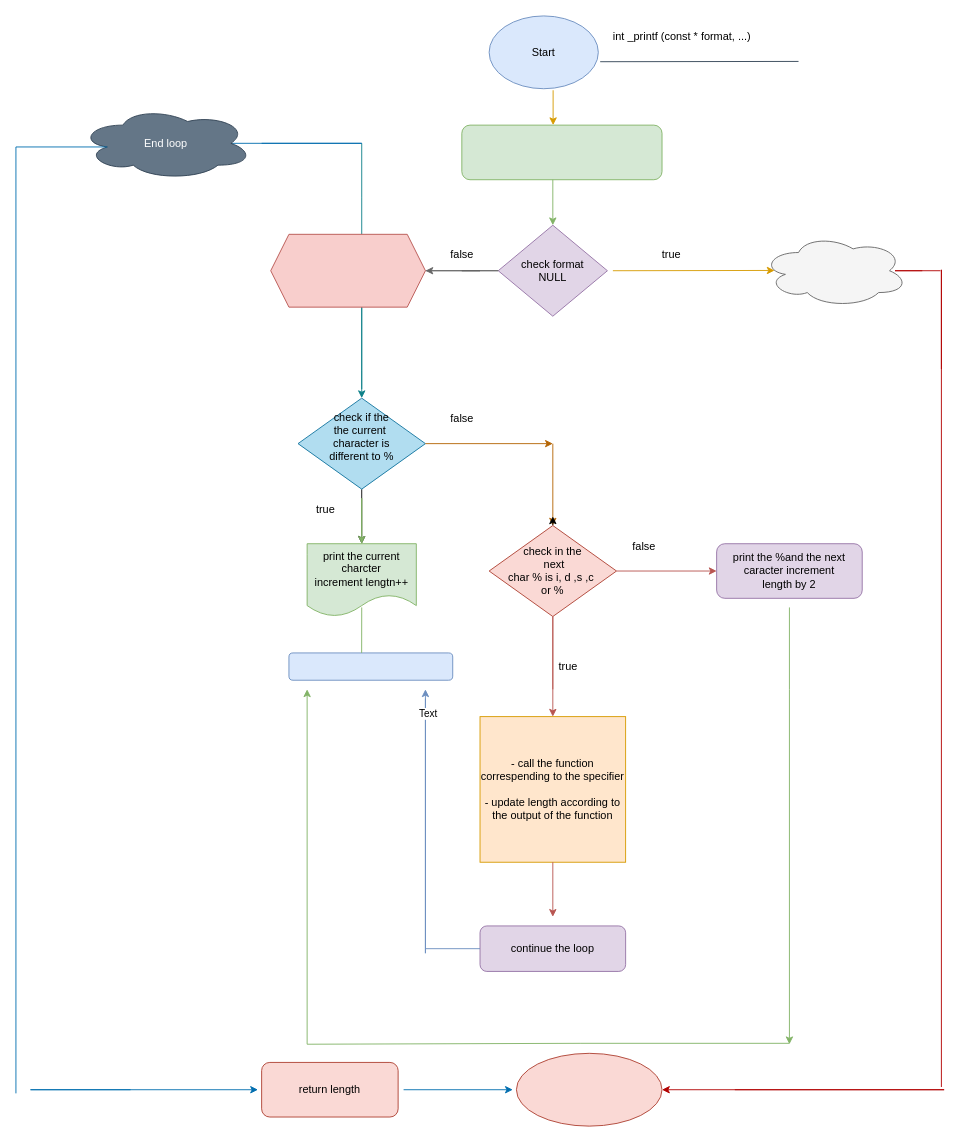
Image size: 967x1142. Some labels were removed from this diagram. The shapes that lost their labels are listed below. From the top down, each one's centre as x and y in pixels, then its label:
At pixel 561 152: "declaration and initialization of variables i , length , ...".
At pixel 347 270: "loop through format string while (format [i] ! = '\0'".
At pixel 834 270: "Return -1".
At pixel 370 666: "increment i by 1".
At pixel 589 1089: "END".
